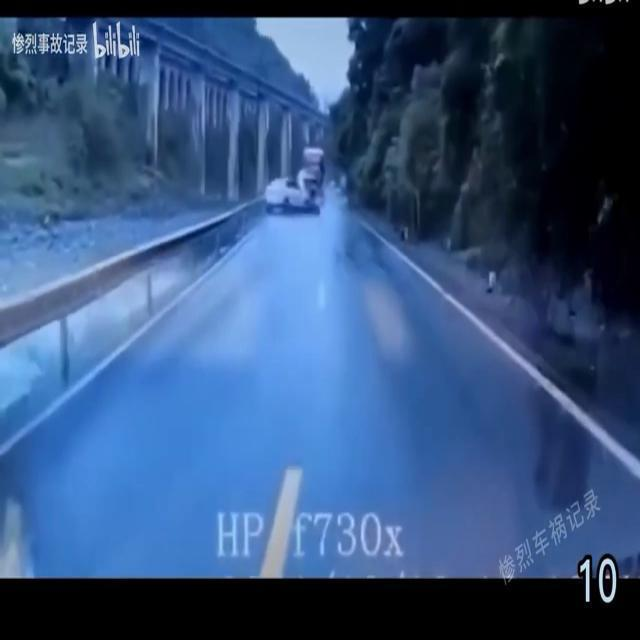accident: (262, 145, 322, 213)
